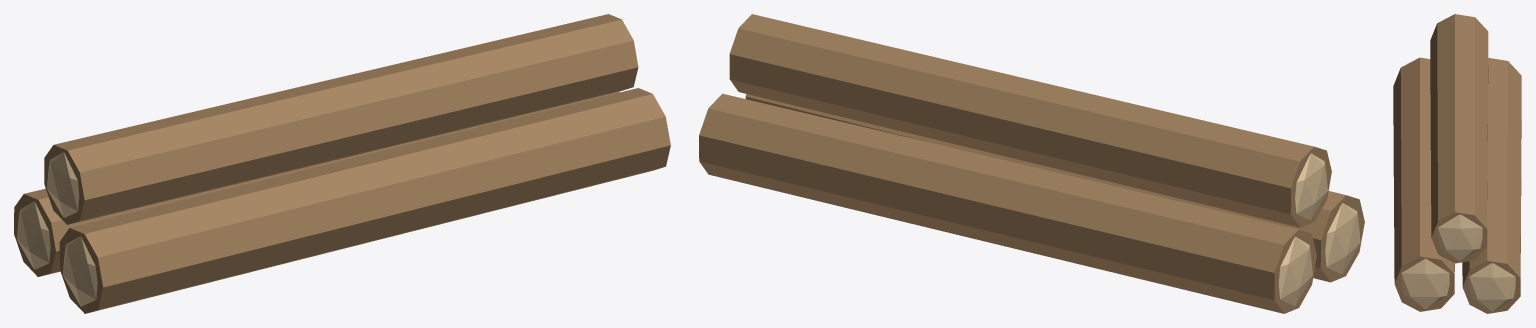
Rendered from resource_wood_logs.glb.
The picture shows the model from 3 angles, left to right: view 1: azimuth 30°, elevation 25°; view 2: azimuth 150°, elevation 25°; view 3: azimuth 270°, elevation 25°; orthographic projection. The views are drawn at different scales.
Parts seen in each view (by area): view 1: resource_wood_logs_log_1, resource_wood_logs_log_3, resource_wood_logs_log_2, resource_wood_logs_log_1_left_cut, resource_wood_logs_log_2_left_cut, resource_wood_logs_log_3_left_cut; view 2: resource_wood_logs_log_2, resource_wood_logs_log_3, resource_wood_logs_log_1, resource_wood_logs_log_1_left_cut, resource_wood_logs_log_2_left_cut, resource_wood_logs_log_3_left_cut; view 3: resource_wood_logs_log_3, resource_wood_logs_log_1, resource_wood_logs_log_2, resource_wood_logs_log_1_right_cut, resource_wood_logs_log_2_right_cut, resource_wood_logs_log_3_right_cut.
Boxes of the visible parts, left/top/right/bottom form: resource_wood_logs_log_1: left=59, top=88, right=670, bottom=313; resource_wood_logs_log_3: left=44, top=14, right=638, bottom=224; resource_wood_logs_log_2: left=14, top=91, right=619, bottom=276; resource_wood_logs_log_1_left_cut: left=62, top=236, right=97, bottom=306; resource_wood_logs_log_2_left_cut: left=17, top=201, right=50, bottom=269; resource_wood_logs_log_3_left_cut: left=47, top=152, right=79, bottom=217; resource_wood_logs_log_2: left=699, top=93, right=1316, bottom=313; resource_wood_logs_log_3: left=729, top=14, right=1331, bottom=227; resource_wood_logs_log_1: left=745, top=94, right=1364, bottom=282; resource_wood_logs_log_1_left_cut: left=1325, top=203, right=1360, bottom=274; resource_wood_logs_log_2_left_cut: left=1278, top=236, right=1312, bottom=305; resource_wood_logs_log_3_left_cut: left=1295, top=153, right=1327, bottom=219; resource_wood_logs_log_3: left=1430, top=14, right=1488, bottom=263; resource_wood_logs_log_1: left=1393, top=57, right=1454, bottom=311; resource_wood_logs_log_2: left=1462, top=58, right=1521, bottom=313; resource_wood_logs_log_1_right_cut: left=1401, top=258, right=1449, bottom=309; resource_wood_logs_log_2_right_cut: left=1469, top=263, right=1515, bottom=311; resource_wood_logs_log_3_right_cut: left=1437, top=214, right=1482, bottom=261.
Size of the model in its own units: 4.16 by 0.9918 by 1.11.
